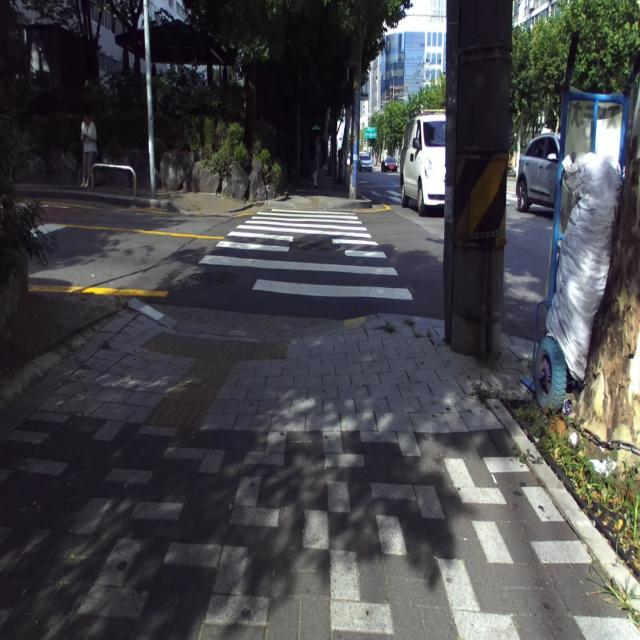횡단보도: (198, 208, 413, 300)
